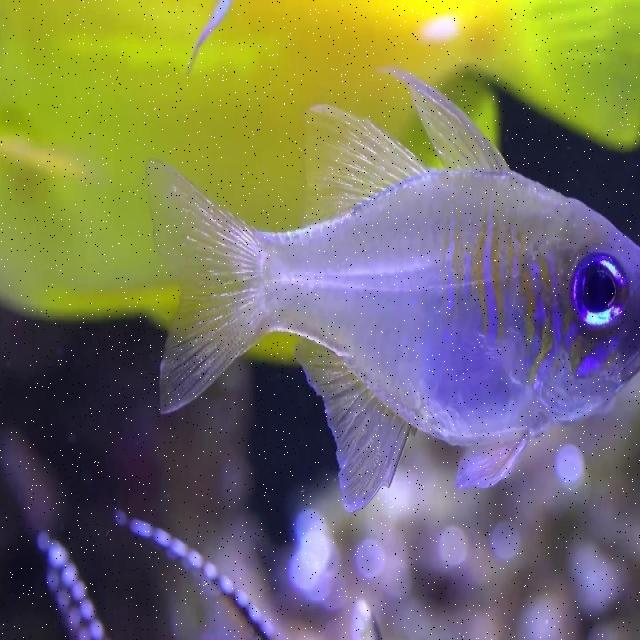fish: (0, 0, 115, 117)
reefs: (0, 365, 639, 639)
